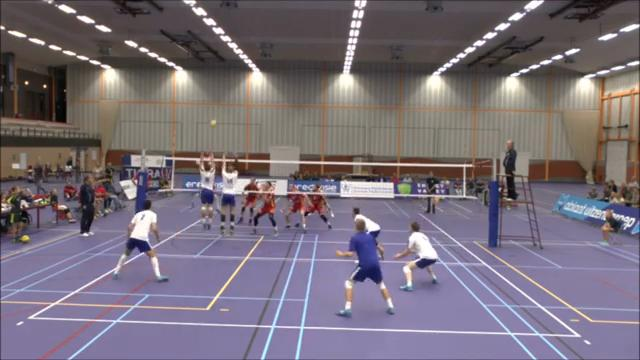Block: (194, 146, 216, 232), (219, 146, 237, 236)
Player: (336, 219, 393, 316), (112, 200, 168, 281), (394, 221, 437, 291), (353, 207, 383, 258), (252, 182, 277, 236), (304, 184, 331, 228), (285, 184, 307, 232), (237, 178, 258, 224)
ball: (209, 118, 220, 129)
